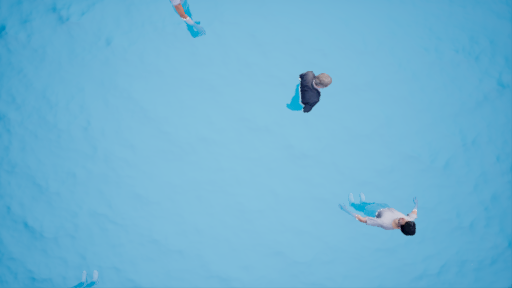person: (329, 192, 426, 237), (277, 68, 334, 113)
